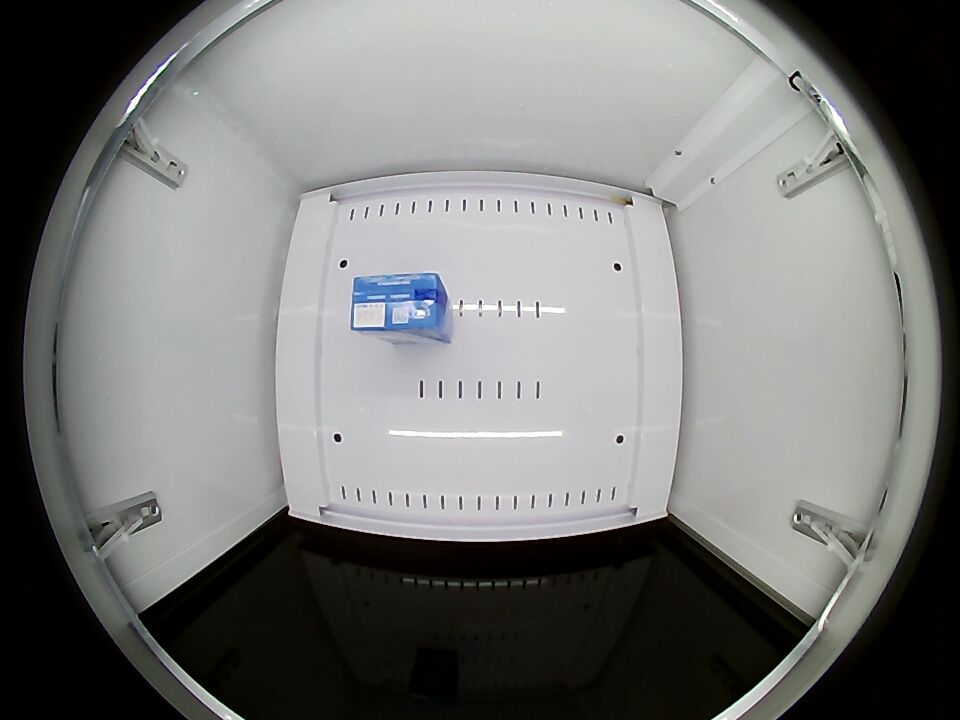weitanai: (350, 272, 449, 340)
